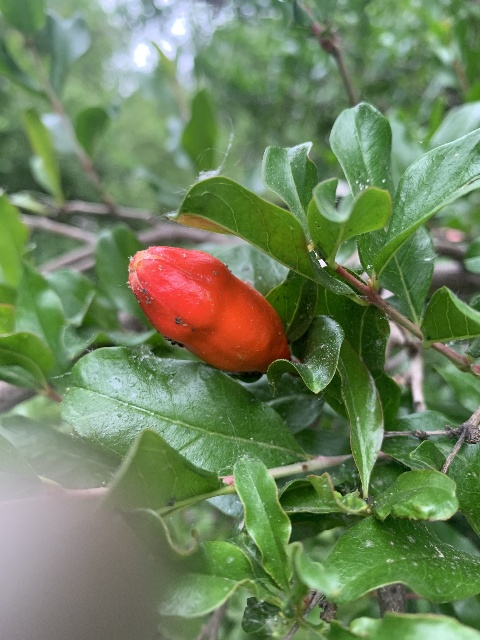bud: (125, 245, 289, 373)
